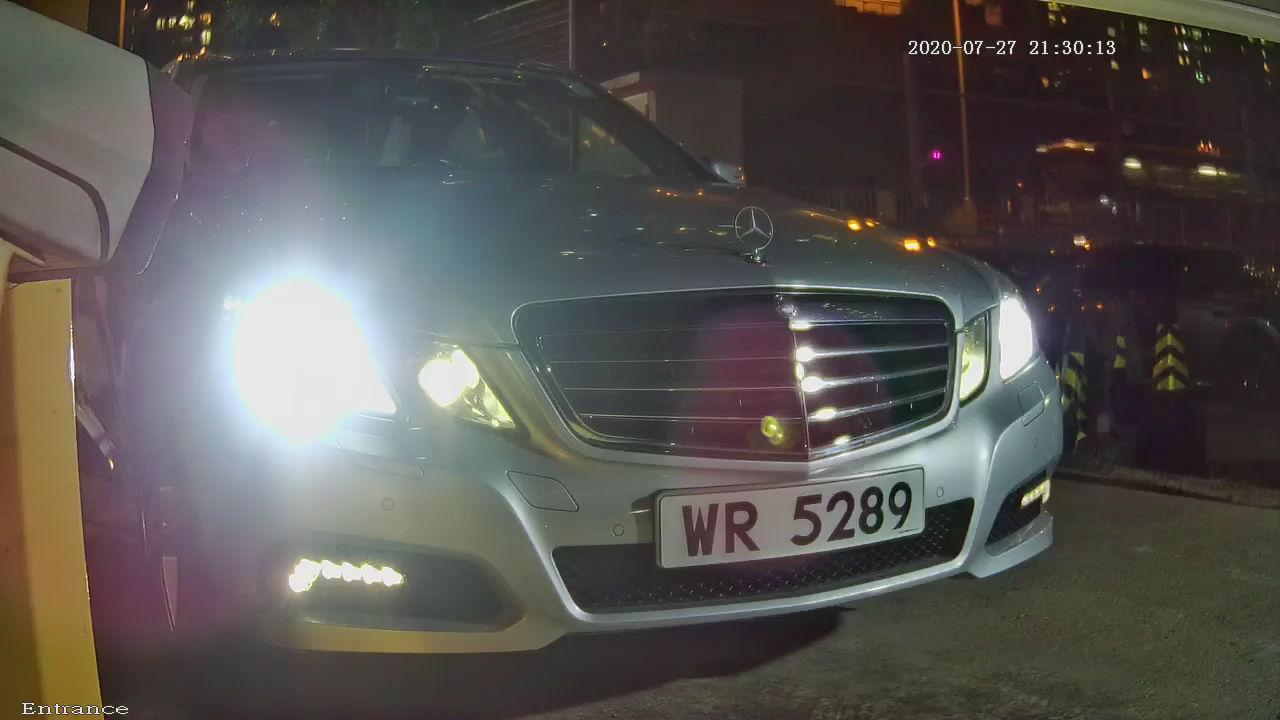privatecar: (132, 20, 1058, 682)
